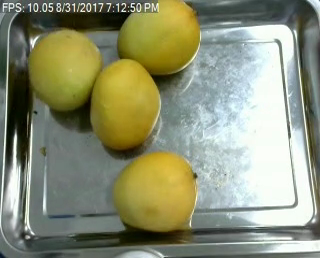Mango: (111, 151, 202, 232), (89, 60, 166, 155), (24, 30, 105, 114), (116, 2, 201, 73)
